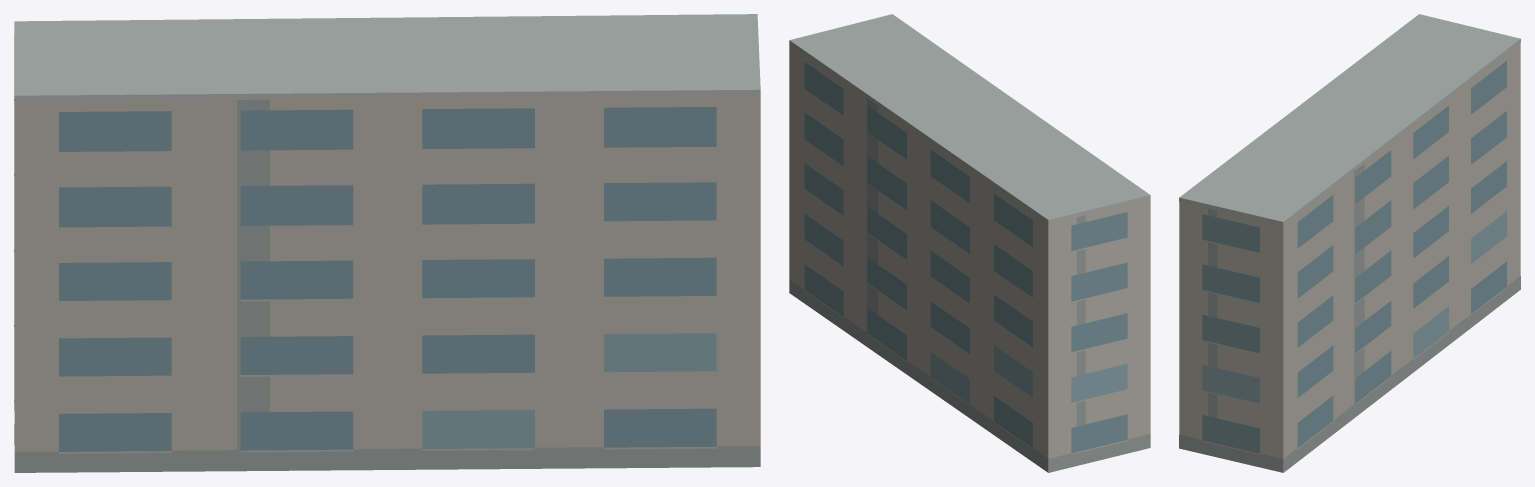
Rendered from survey-upis-32893751.glb.
3 views of the same model, side by side, from view 1: azimuth 30°, elevation 25°; view 2: azimuth 150°, elevation 25°; view 3: azimuth 270°, elevation 25° (orthographic). The views are drawn at different scales.
Visible parts, largest first — view 1: survey-upis-32893751.tmp; view 2: survey-upis-32893751.tmp; view 3: survey-upis-32893751.tmp.
Boxes of the visible parts, x1=… form: survey-upis-32893751.tmp: x1=14, y1=14, x2=760, y2=472; survey-upis-32893751.tmp: x1=789, y1=14, x2=1150, y2=472; survey-upis-32893751.tmp: x1=1179, y1=14, x2=1520, y2=472.
Bounding box in the file's own units: 27.12 × 15.25 × 18.82.
